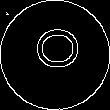O_W: (30, 34, 80, 76)
